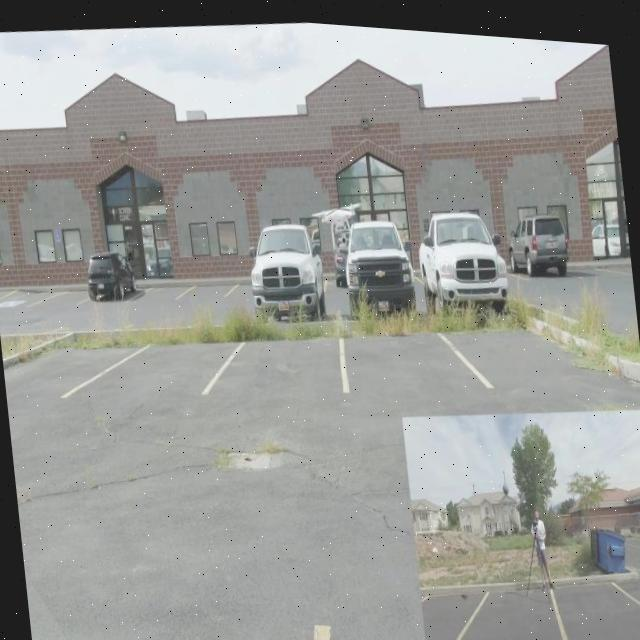drone: (308, 188, 367, 243)
